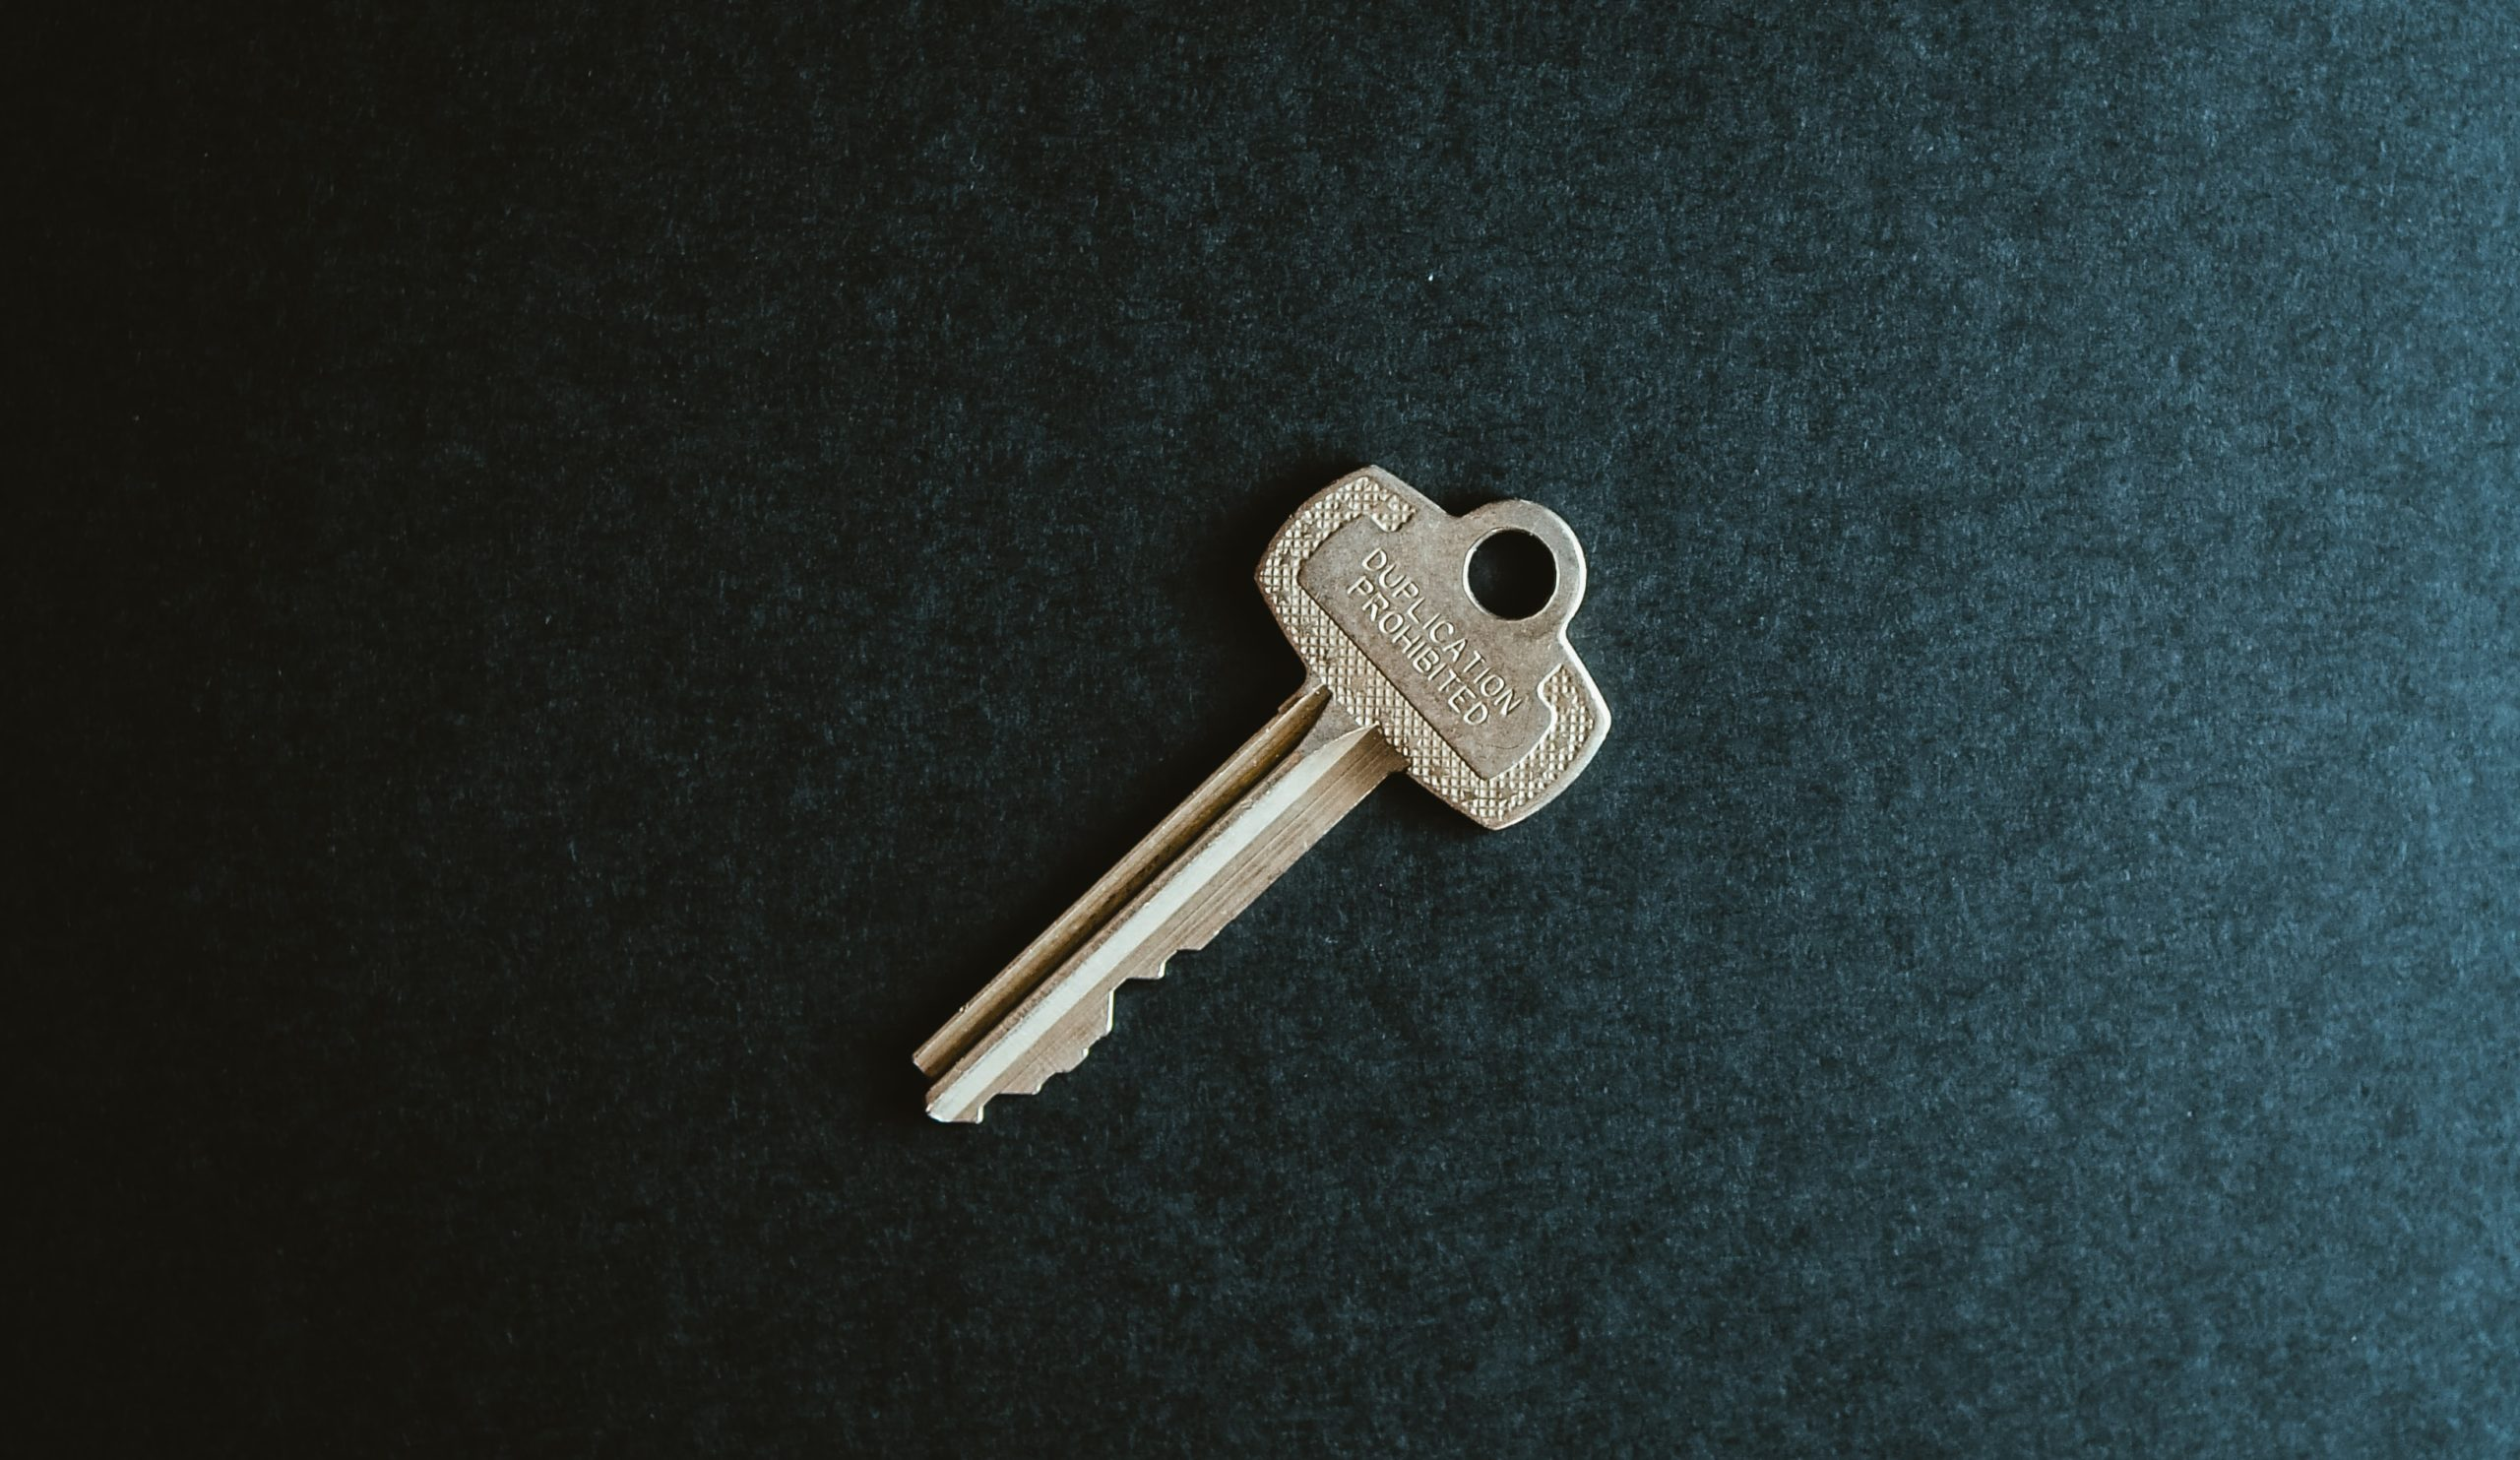key: (900, 450, 1618, 1137)
